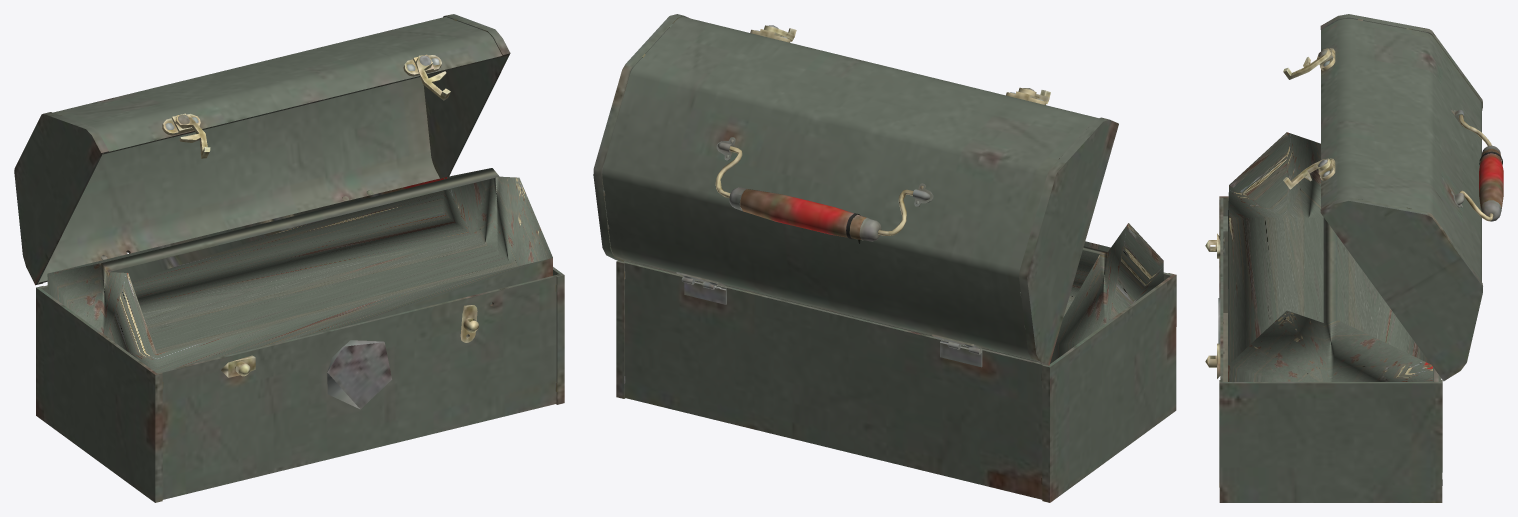
The model's file is metal_toolbox.glb.
3 renders of one model, left to right at view 1: azimuth 30°, elevation 25°; view 2: azimuth 150°, elevation 25°; view 3: azimuth 270°, elevation 25°, orthographic. The views are drawn at different scales.
Parts seen in each view (by area): view 1: metal_toolbox_lid, metal_toolbox, metal_toolbox_tray; view 2: metal_toolbox_lid, metal_toolbox, metal_toolbox_tray, metal_toolbox_handle; view 3: metal_toolbox_lid, metal_toolbox_tray, metal_toolbox, metal_toolbox_handle, metal_toolbox_handle_latch_l, metal_toolbox_handle_latch_r.
Part boxes in pixels (x1,y1,x2,y2): metal_toolbox_lid: [14, 14, 510, 285]; metal_toolbox: [36, 267, 564, 502]; metal_toolbox_tray: [47, 168, 552, 372]; metal_toolbox_lid: [593, 14, 1118, 365]; metal_toolbox: [616, 260, 1176, 502]; metal_toolbox_tray: [629, 223, 1163, 363]; metal_toolbox_handle: [715, 146, 913, 243]; metal_toolbox_lid: [1318, 14, 1482, 381]; metal_toolbox_tray: [1228, 132, 1433, 381]; metal_toolbox: [1205, 196, 1442, 502]; metal_toolbox_handle: [1459, 114, 1503, 221]; metal_toolbox_handle_latch_l: [1283, 48, 1331, 79]; metal_toolbox_handle_latch_r: [1283, 158, 1330, 189].
Bounding box in the file's own units: 0.4 × 0.3044 × 0.2702.
1 material, 1 textured.
